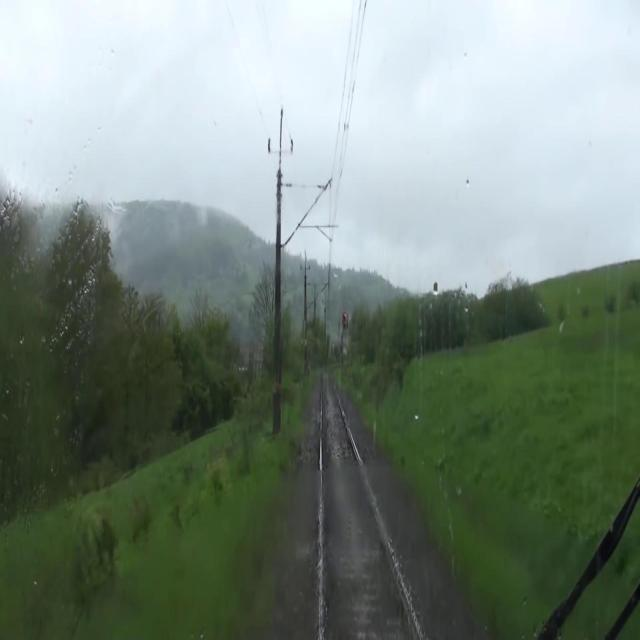rail-track: (323, 368, 417, 639)
